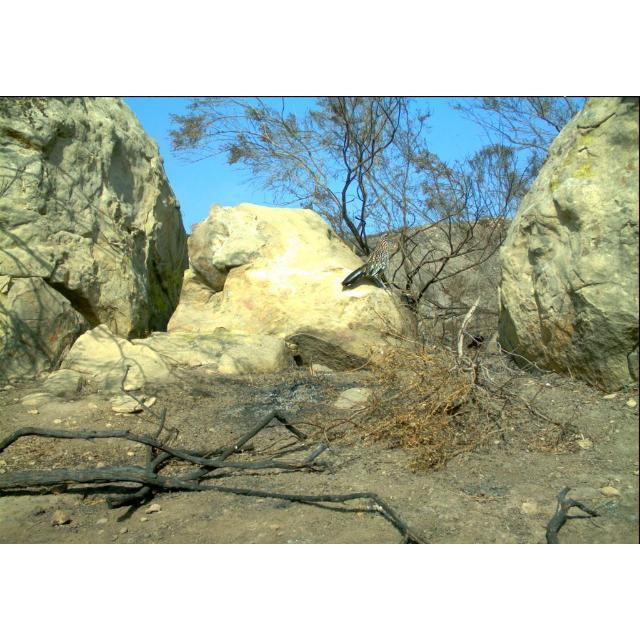animals: (340, 232, 398, 290)
